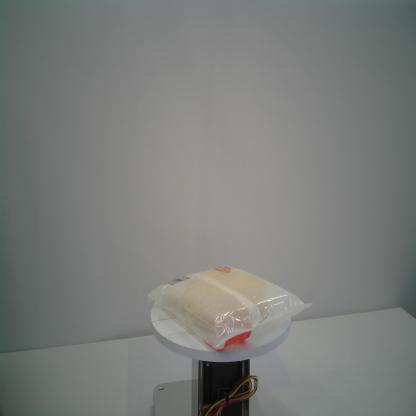Dessert: (147, 265, 313, 351)
